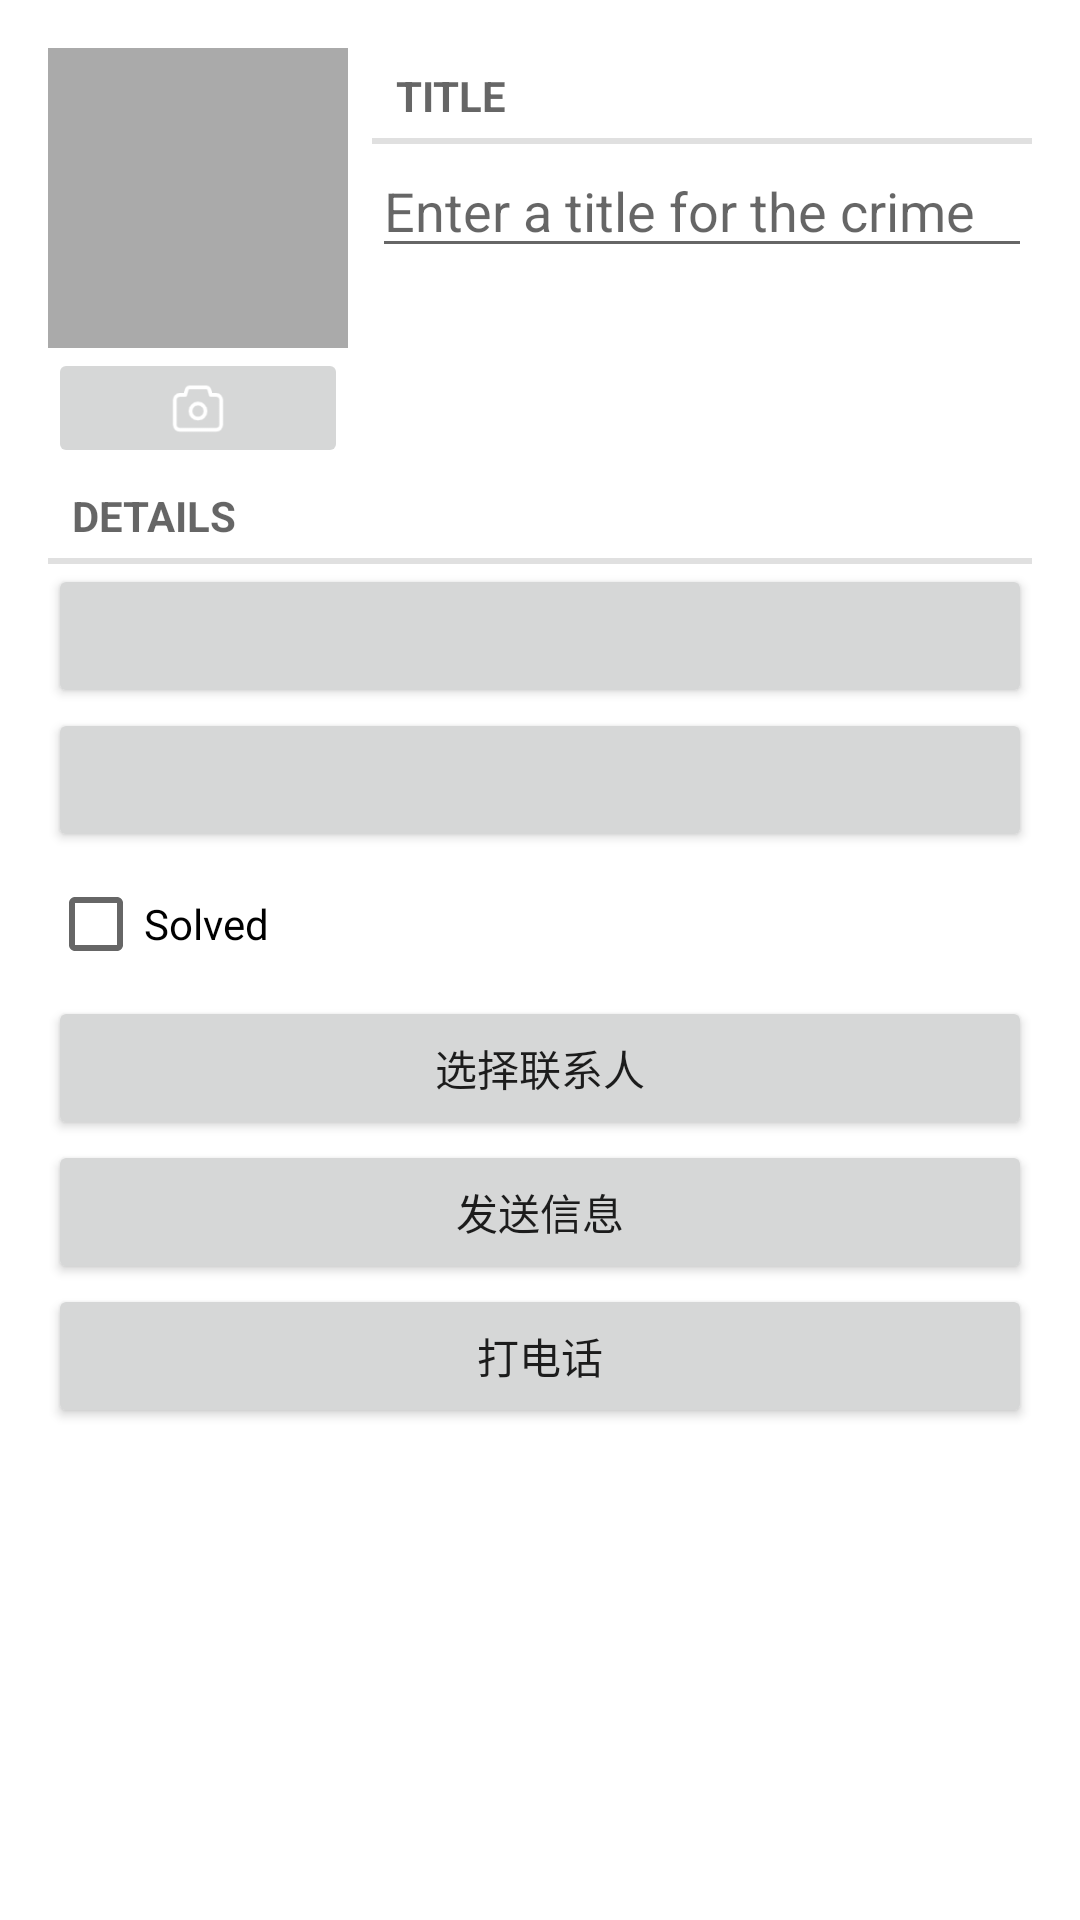

Screen size 1080w x 1920h. Icon name, then its box in pixels as (x1, y1, x2, y2):
camera: (60, 366, 336, 450)
